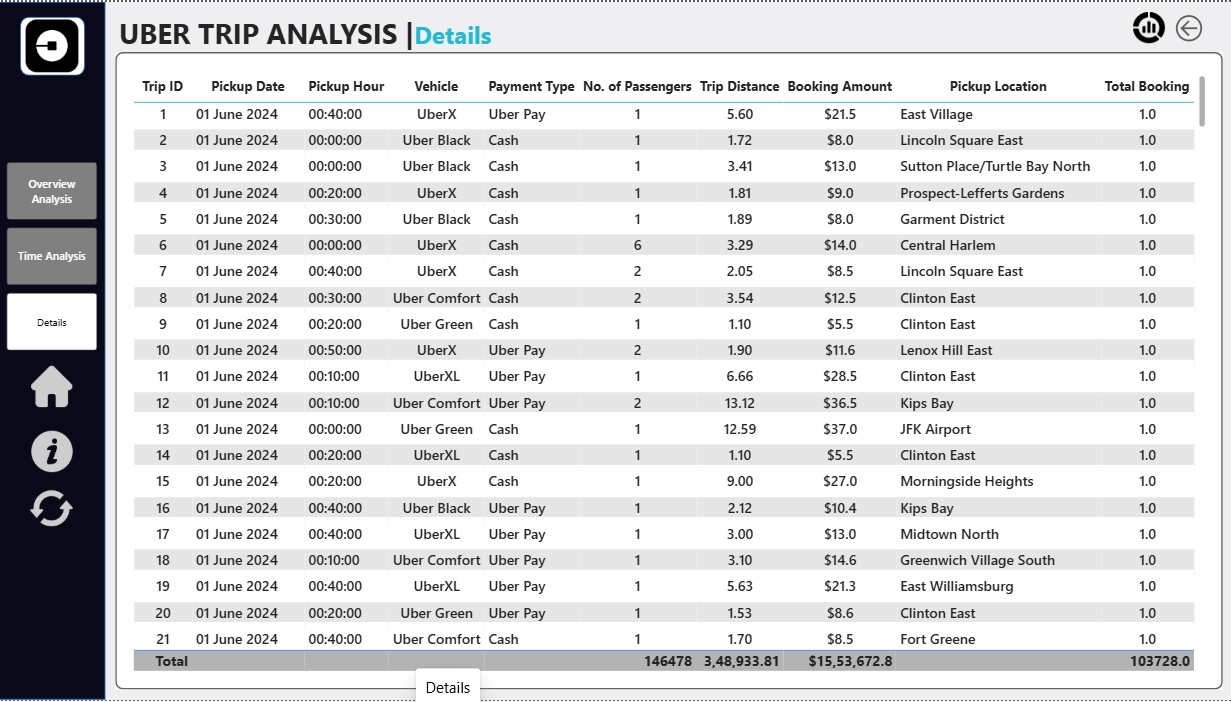

The dashboard page shown, as its layout file describes it:
{"tool":"powerbi","page":{"name":"Details","canvas":[1650,930],"ordinal":2},"visuals":[{"type":"shape","box":[155,66.7,1476.7,850],"z":0},{"type":"shape","box":[0,0,141.7,930],"z":1000},{"type":"textbox","box":[155,11.7,635,70],"z":2000},{"type":"actionButton","box":[1563.3,11.7,50,46.7],"z":3000},{"type":"tableEx","fields":{"Values":["Uber Trip Details .Trip ID","Uber Trip Details .Pickup Date","Uber Trip Details .Time hour (bins)","Uber Trip Details .Vehicle","Uber Trip Details .Payment_type","Sum(Uber Trip Details .passenger_count)","Sum(Uber Trip Details .trip_distance)","Uber Trip Details .Total Booking Amount","Location Table.Location","Uber Trip Details .Total Booking"]},"box":[173.3,93.3,1440,803.3],"z":4000},{"type":"image","box":[1503.3,13.3,60,41.7],"z":5000},{"type":"group","id":"g1","title":"Group 1","box":[26.7,20,88.3,78],"z":6000},{"type":"pageNavigator","box":[10,213.3,121.7,251.7],"z":7000},{"type":"image","box":[16.5,571.7,108.3,55],"z":8000},{"type":"image","box":[20.6,646.7,100,56.7],"z":9000},{"type":"image","box":[27.3,485,86.7,55],"z":10000},{"type":"shape","box":[28.4,20,86,78],"z":34000,"group":"g1"},{"type":"image","box":[26.7,23.3,88.3,70],"z":35000,"group":"g1"}]}

Visuals, with their boxes on the page's 1650x930 design canvas (x1, y1, x2, y2). These are canvas units, not pixel positions in the 1231x702 screenshot, which may show the page scaled, cropped or inside an application window:
shape: <box>155,67,1632,917</box>
shape: <box>0,0,142,930</box>
textbox: <box>155,12,790,82</box>
actionButton: <box>1563,12,1613,58</box>
tableEx - Uber Trip Details .Trip ID x Uber Trip Details .Pickup Date: <box>173,93,1613,897</box>
image: <box>1503,13,1563,55</box>
"Group 1" group: <box>27,20,115,98</box>
pageNavigator: <box>10,213,132,465</box>
image: <box>16,572,125,627</box>
image: <box>21,647,121,703</box>
image: <box>27,485,114,540</box>
shape: <box>28,20,114,98</box>
image: <box>27,23,115,93</box>
